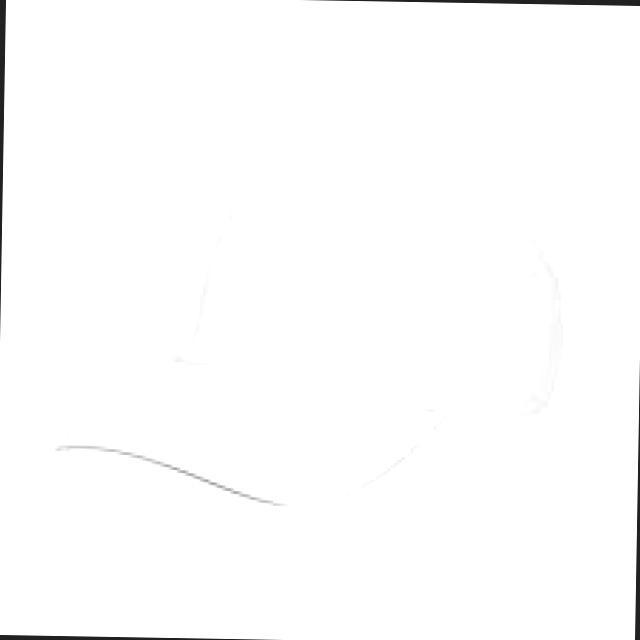cap: (36, 99, 566, 530)
